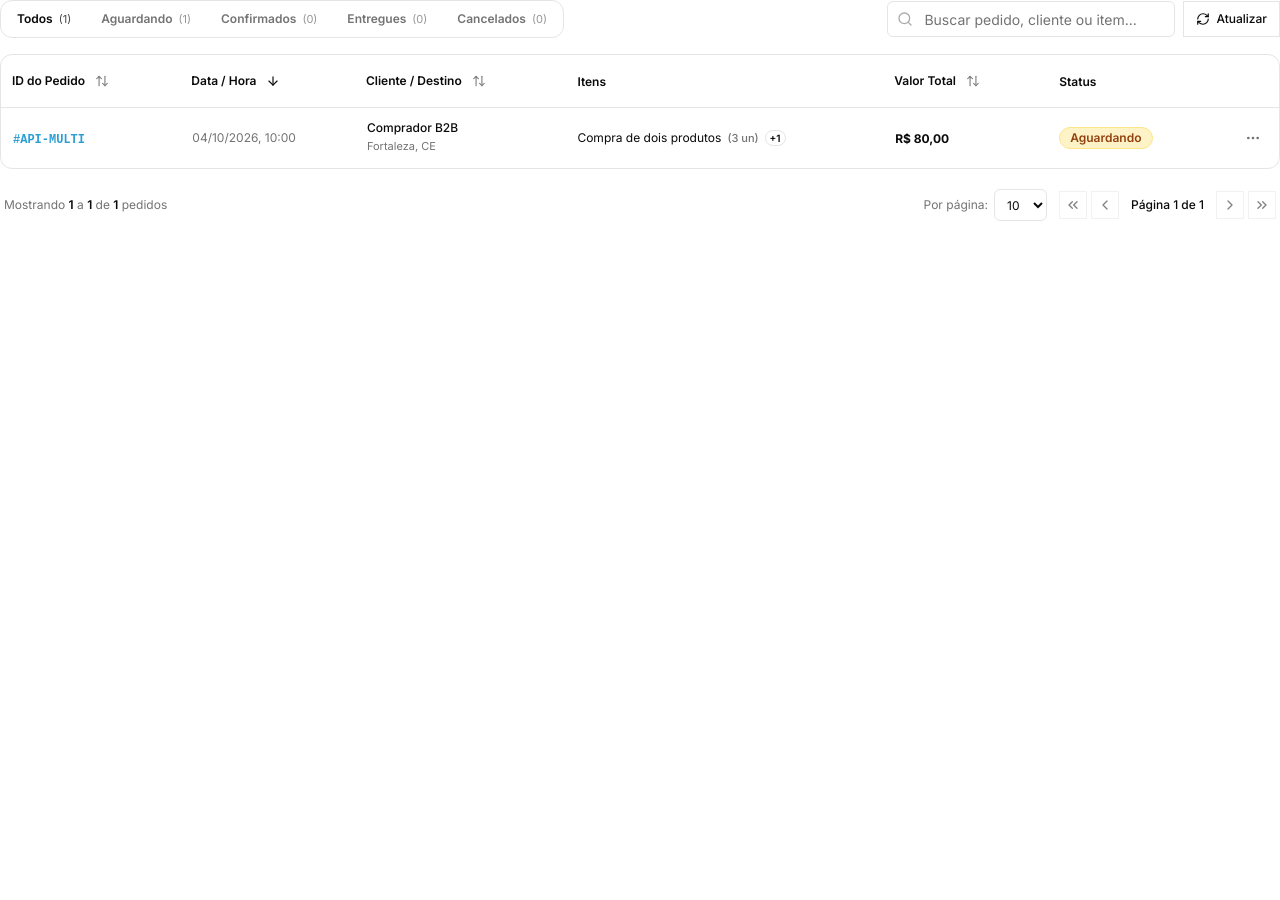
Test case: exibe endereço e todas as linhas após a conversão real da API para o painel
Click the text with test id "order-id-API-MULTI" at [17, 140], box [13,133,85,147]
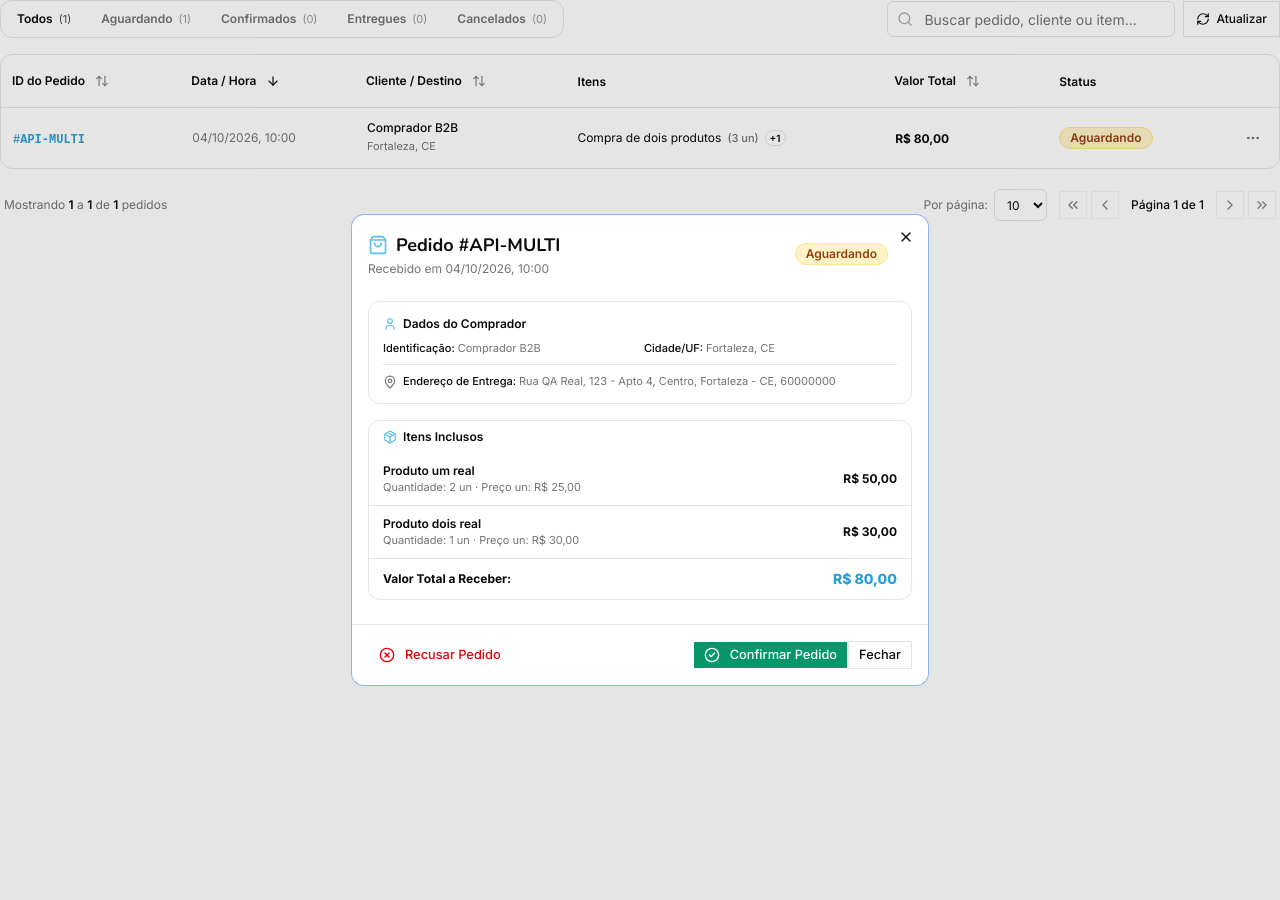
Result: the dialog shows "Rua QA Real, 123 - Apto 4" at [352,215,928,685]
Result: the dialog shows "Produto um real" at [383,463,475,478]
Result: the dialog shows "Produto dois real" at [383,516,481,531]
